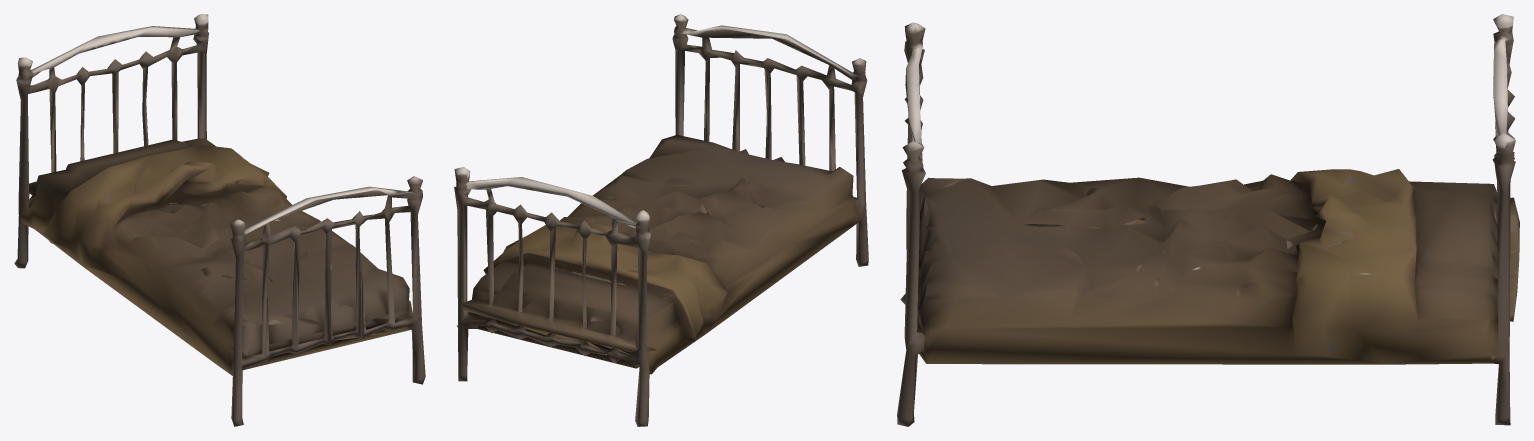
Rendered from iron_bed.glb.
3 renders of one model, left to right at view 1: azimuth 30°, elevation 25°; view 2: azimuth 150°, elevation 25°; view 3: azimuth 270°, elevation 25°, orthographic. The views are drawn at different scales.
Visible parts, largest first — view 1: iron_bed_LOD0; view 2: iron_bed_LOD0; view 3: iron_bed_LOD0.
Boxes of the visible parts, left/top/right/bottom form: iron_bed_LOD0: left=14, top=14, right=425, bottom=426; iron_bed_LOD0: left=454, top=14, right=868, bottom=426; iron_bed_LOD0: left=897, top=14, right=1519, bottom=426.
Size of what is drawn, in the model's own units: 1.07 by 1.04 by 2.
Materials: 1 (1 with a texture image).
